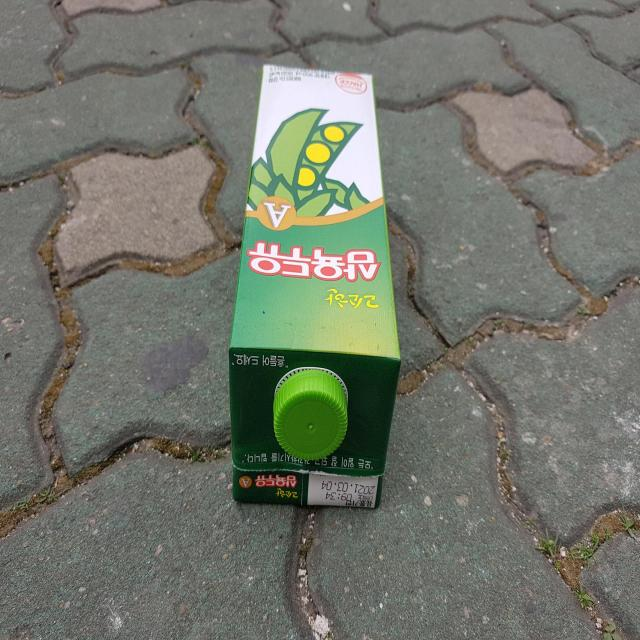paperpack: (229, 63, 401, 508)
